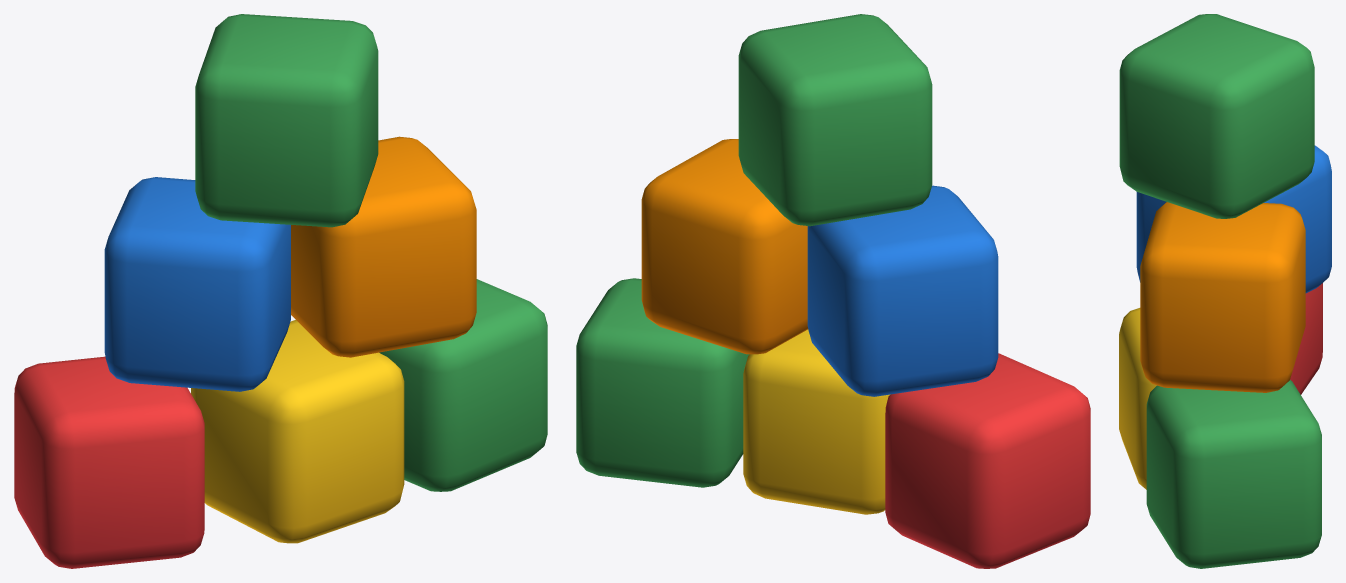
The model's file is Toy_06.glb.
The picture shows the model from 3 angles, left to right: view 1: azimuth 30°, elevation 25°; view 2: azimuth 150°, elevation 25°; view 3: azimuth 270°, elevation 25°; orthographic projection. The views are drawn at different scales.
Visible parts, largest first — view 1: Toy_06; view 2: Toy_06; view 3: Toy_06.
Boxes of the visible parts, <box> form: Toy_06: <box>14,14,547,568</box>; Toy_06: <box>576,14,1090,568</box>; Toy_06: <box>1119,14,1331,568</box>.
Bounding box in the file's own units: 0.3077 × 0.2717 × 0.1244.
Materials: 1 (1 with a texture image).
